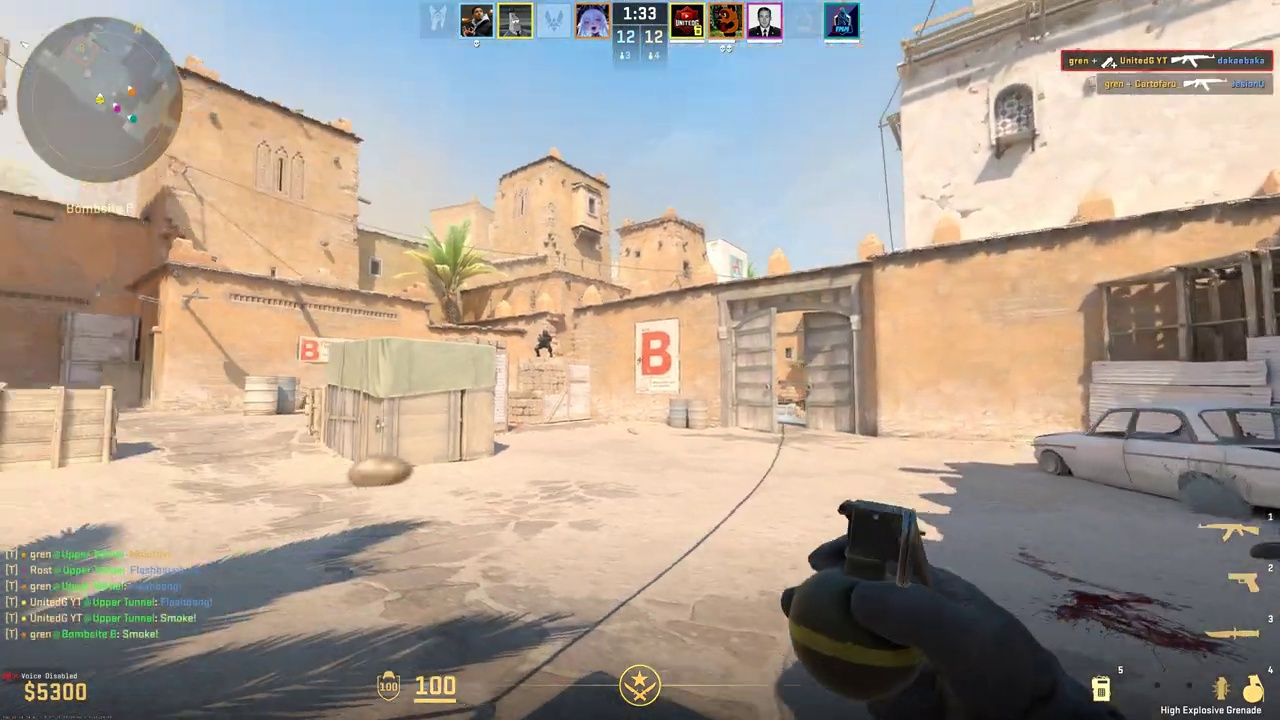CT: (536, 330, 552, 357)
